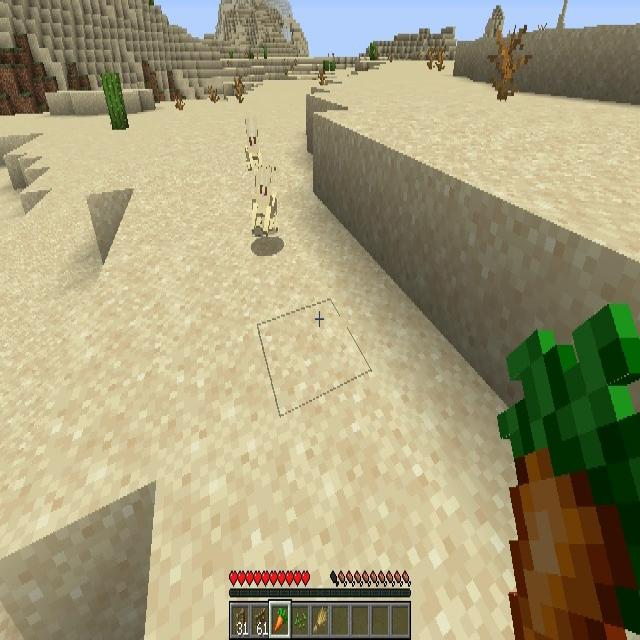rabbit: (252, 167, 276, 237), (242, 117, 260, 169)
